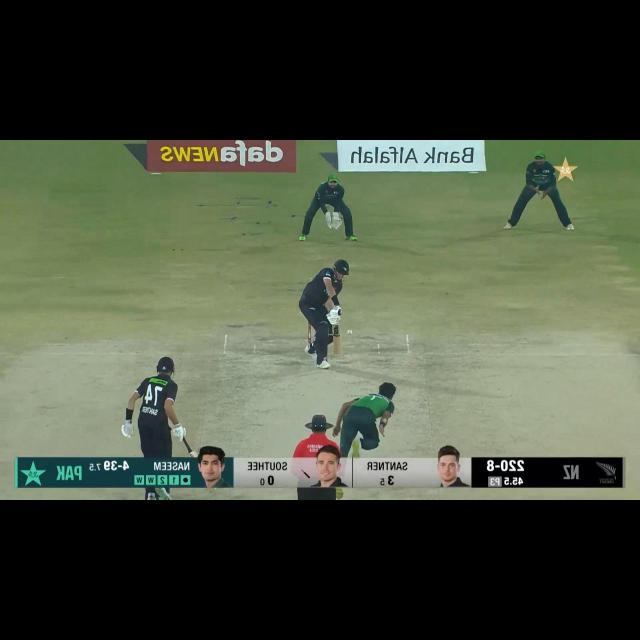bat: (333, 324, 341, 356), (188, 451, 198, 458)
toe: (330, 350, 343, 357)
